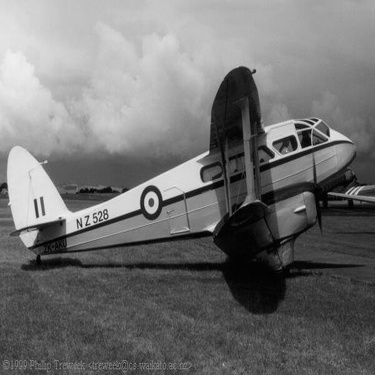airplane: (4, 62, 361, 282), (301, 156, 372, 233)
